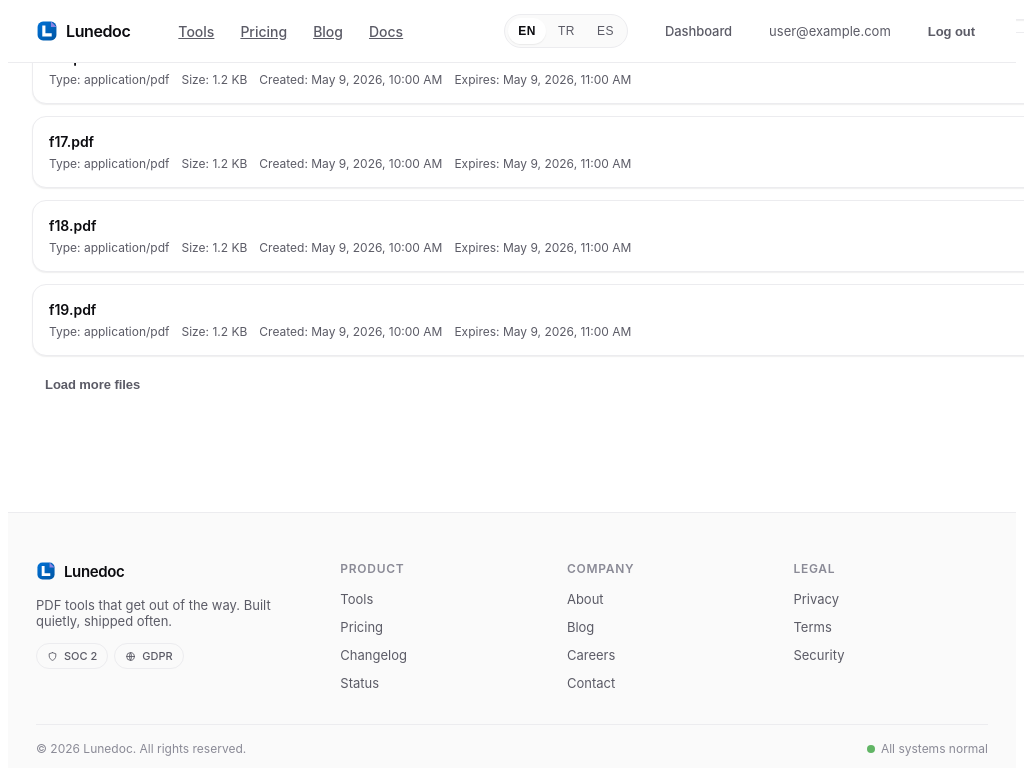
Scenario: DashboardPage › appends rows when "Load more files" is clicked
(page scrolled)
Step 1. Click the button "Load more files" → {"x": 93, "y": 384}, box [32, 368, 153, 400]
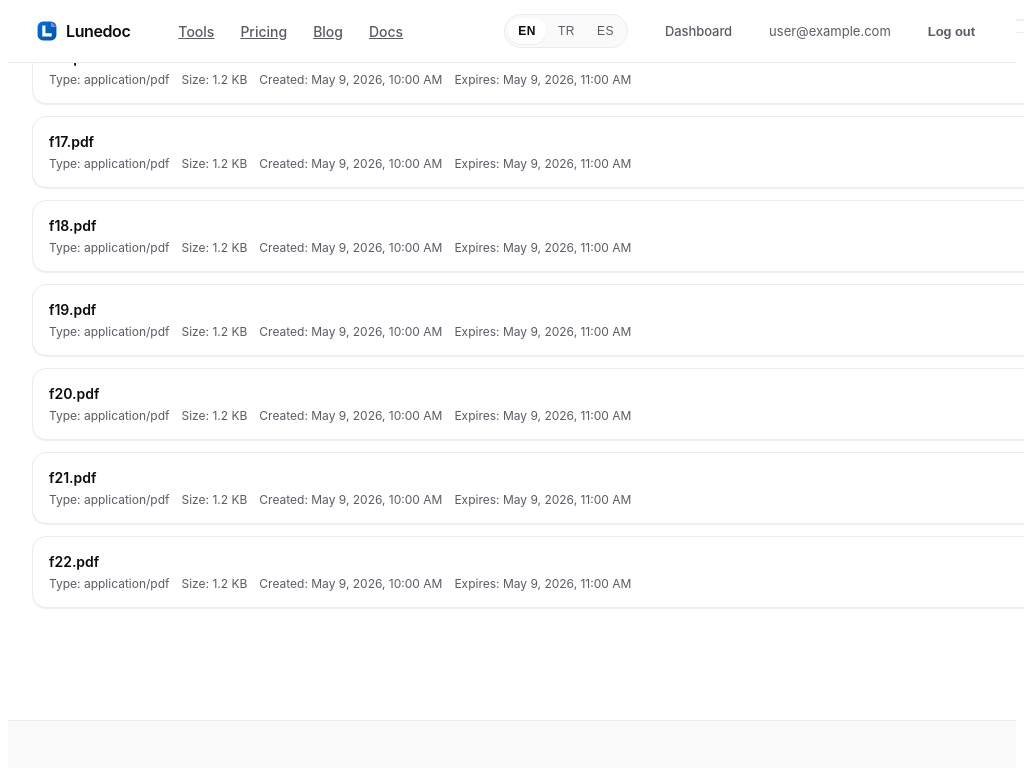
Check: the button "Load more files" is gone
